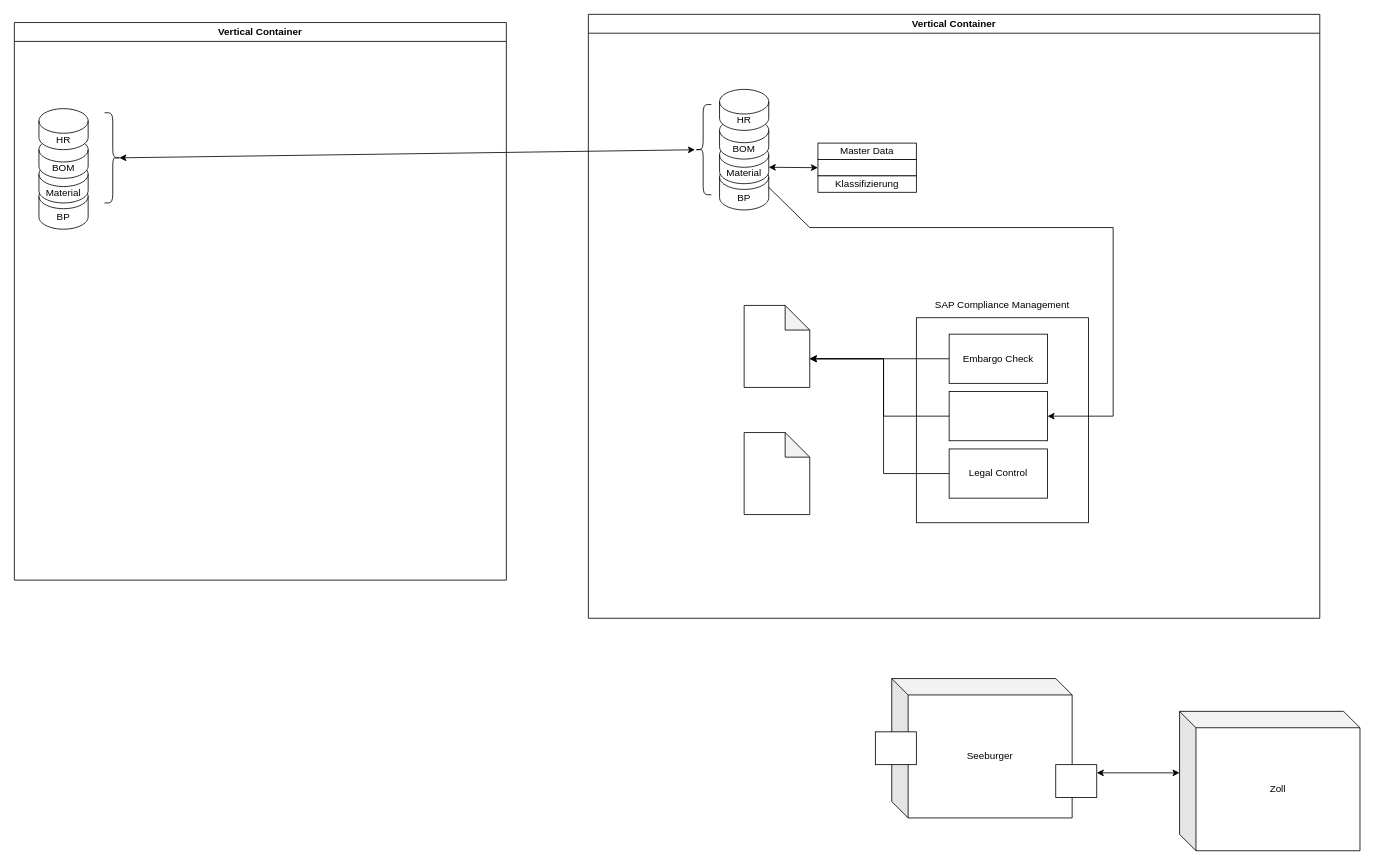
The diagram is 1374 pixels wide and 865 high, and some of its shapes have lost their labels. The centre of each missing label's shape, as x and y in pixels:
Export Declaration: [776,473]
Export Document: [776,346]
IDoc: [895,748]
Sanctioned Party List Screening: [998,416]
Tarifierung: [866,167]
XML: [1076,780]
